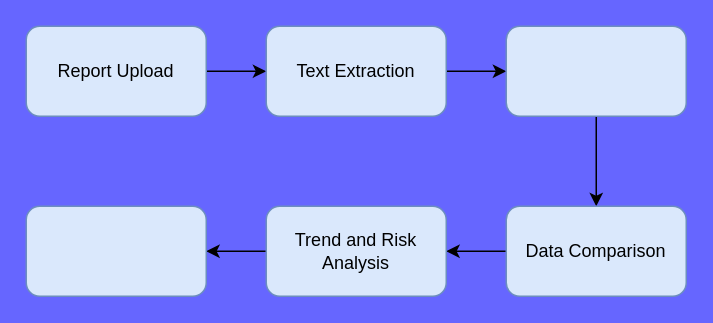
The diagram is 713 pixels wide and 323 high, and some of its shapes have lost their labels. The shapes that lost their labels are listed below. From the top down, each one's centre as x and y in pixels, then its label:
the point at 595,70: Data Parsing and Extraction
the point at 115,250: Display Insights and Updates
